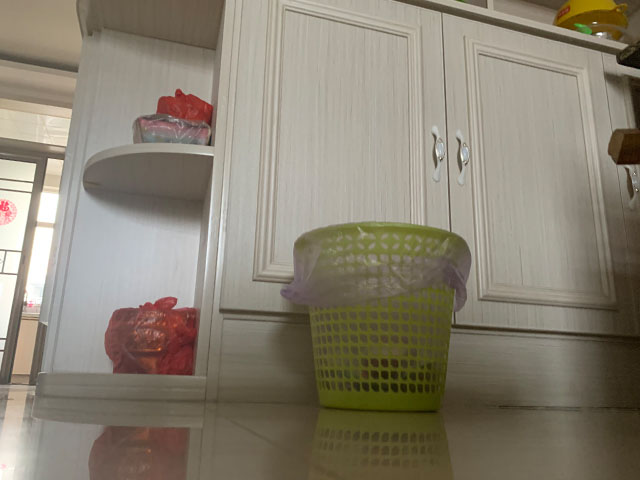cabinet: (35, 1, 640, 415)
trashcan: (292, 222, 473, 412)
